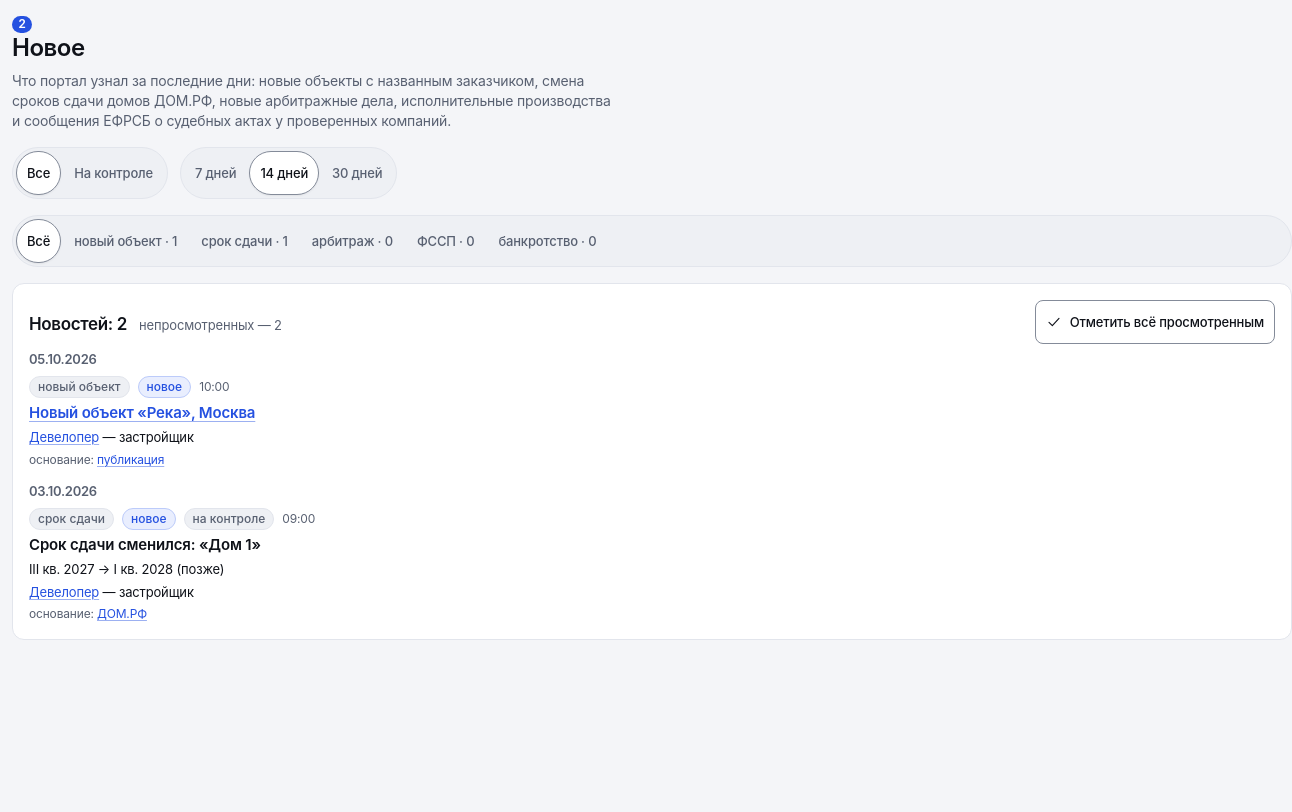
Test: «Новое» › «Отметить всё просмотренным» снимает метки «новое» и счётчик меню
Expected: the link "Новый объект «Река», Москва" is shown, x1=29 y1=403 x2=255 y2=422
Step 1. Click the button "Отметить всё просмотренным" → click(1155, 322), box x1=1035 y1=300 x2=1275 y2=344
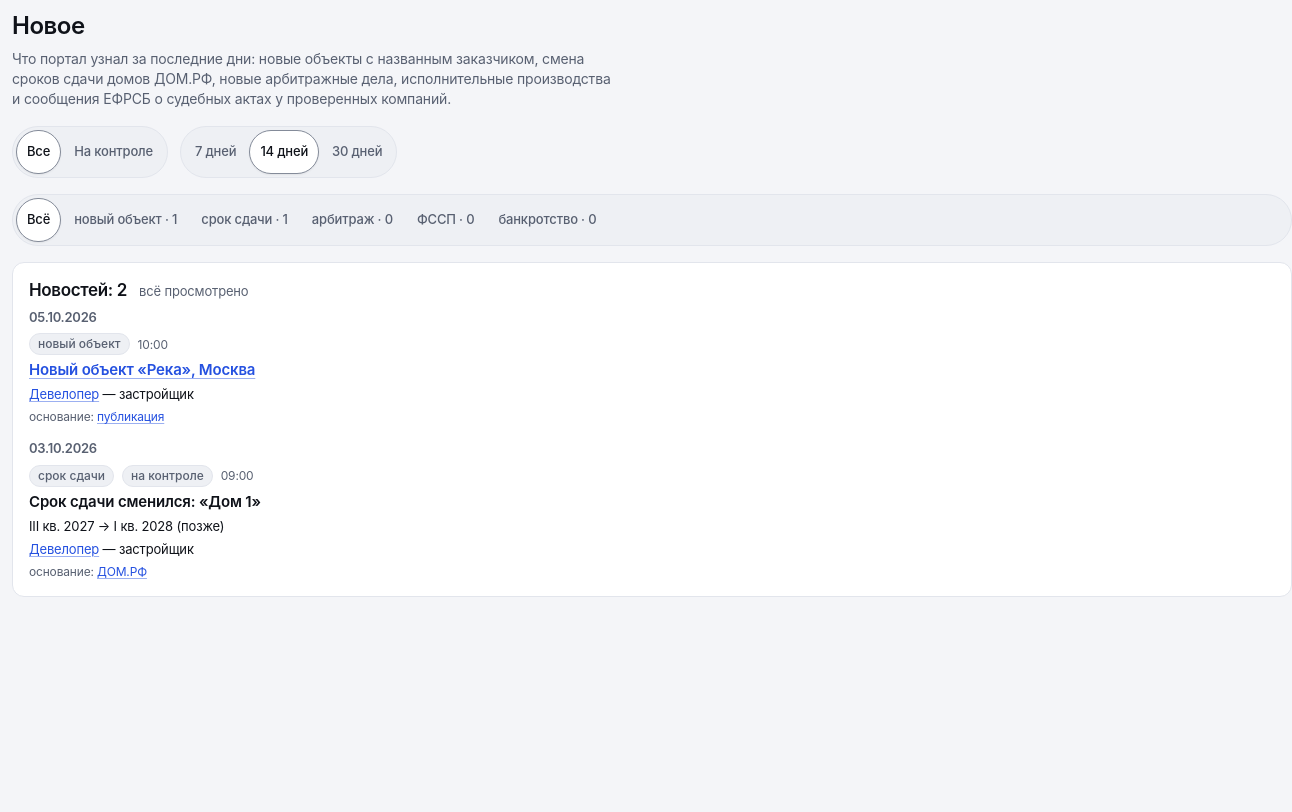
Now the text "непросмотренных" is gone
Now the text "всё просмотрено" is shown, box x1=139 y1=282 x2=248 y2=300
